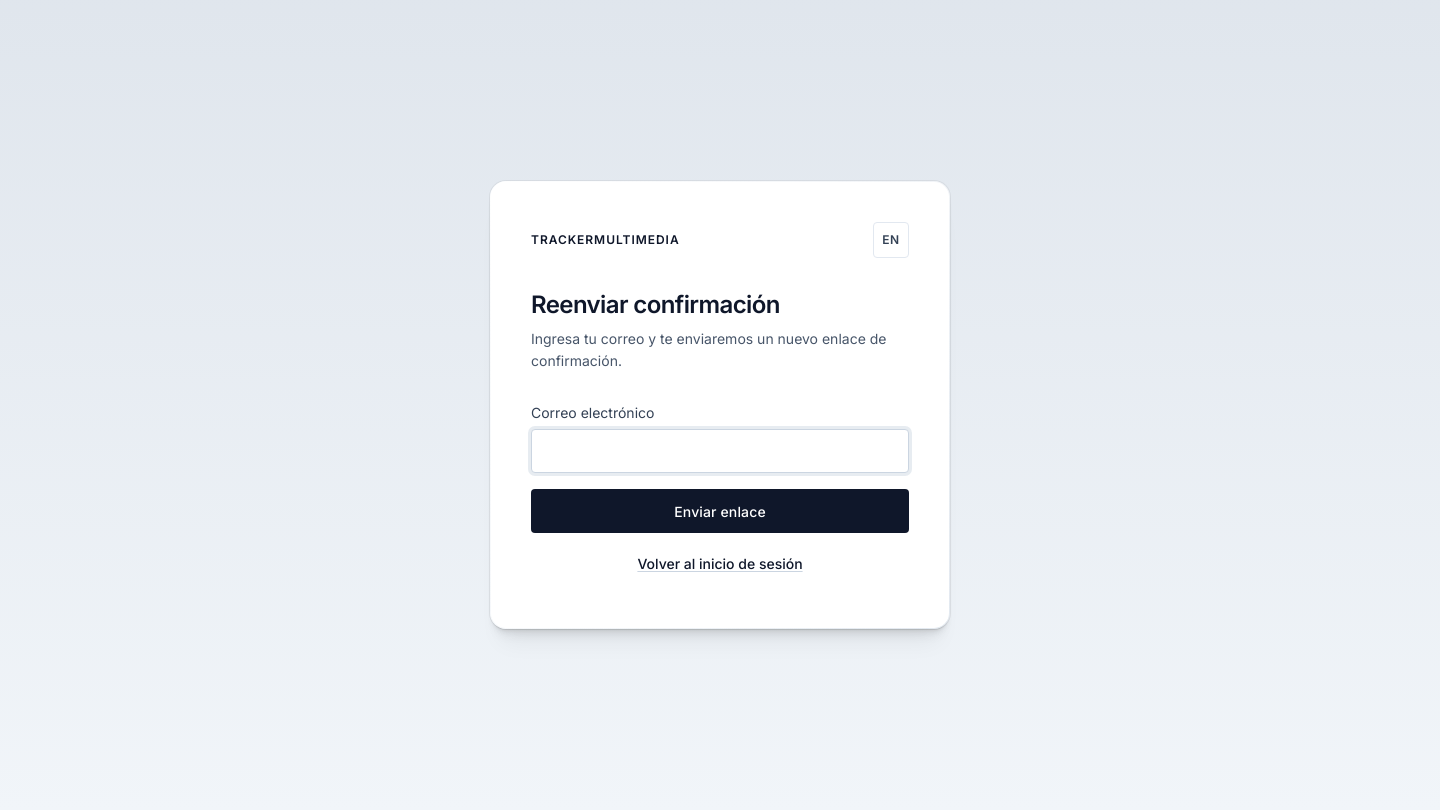
Test case: ResendConfirmationView › submits the email and shows the sent state
Step 1. Type "user@test.com" into the field labelled "Correo electrónico" → (720, 451), box top-left (531, 429), bottom-right (909, 473)
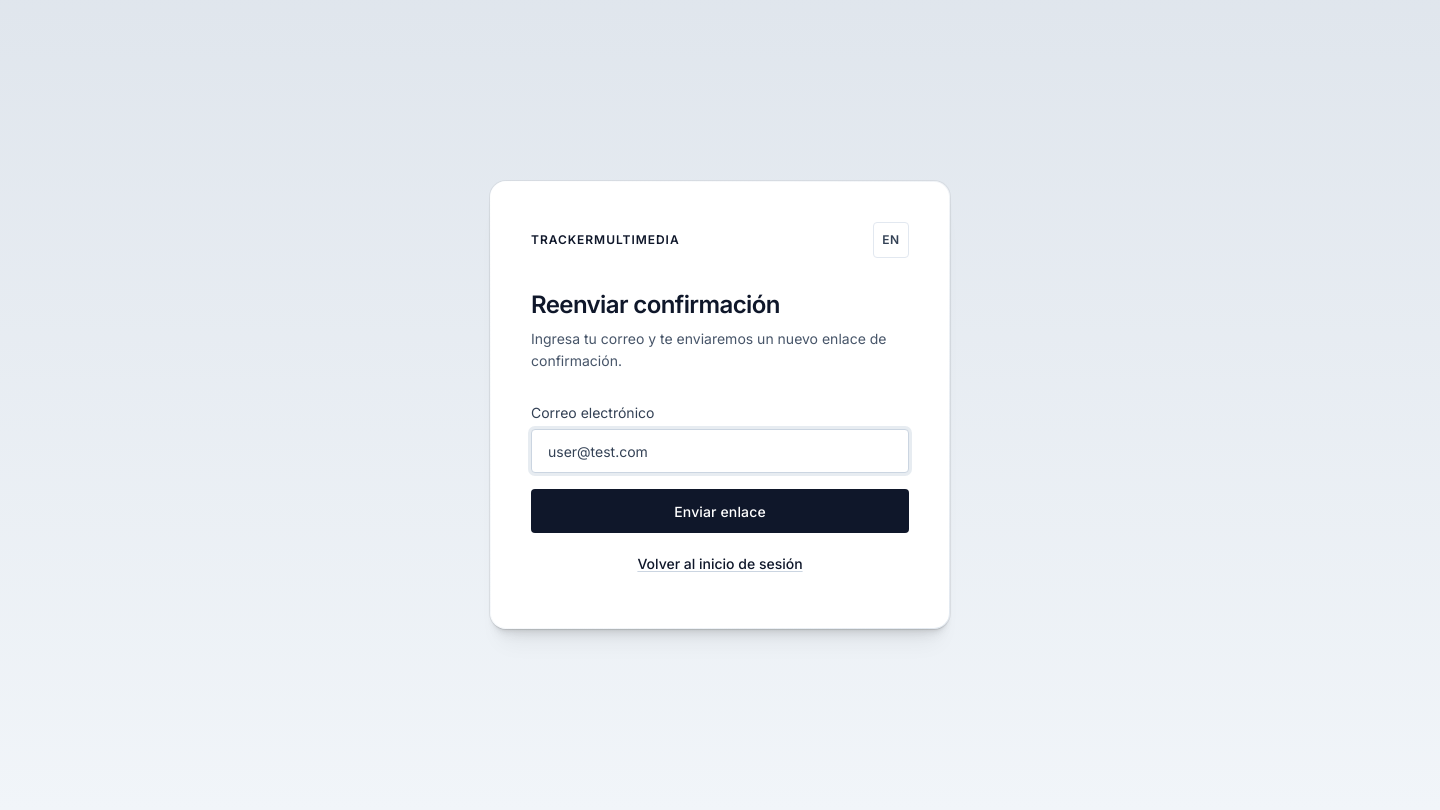
Step 2. Click the button "Enviar enlace" → (720, 511), box top-left (531, 489), bottom-right (909, 533)
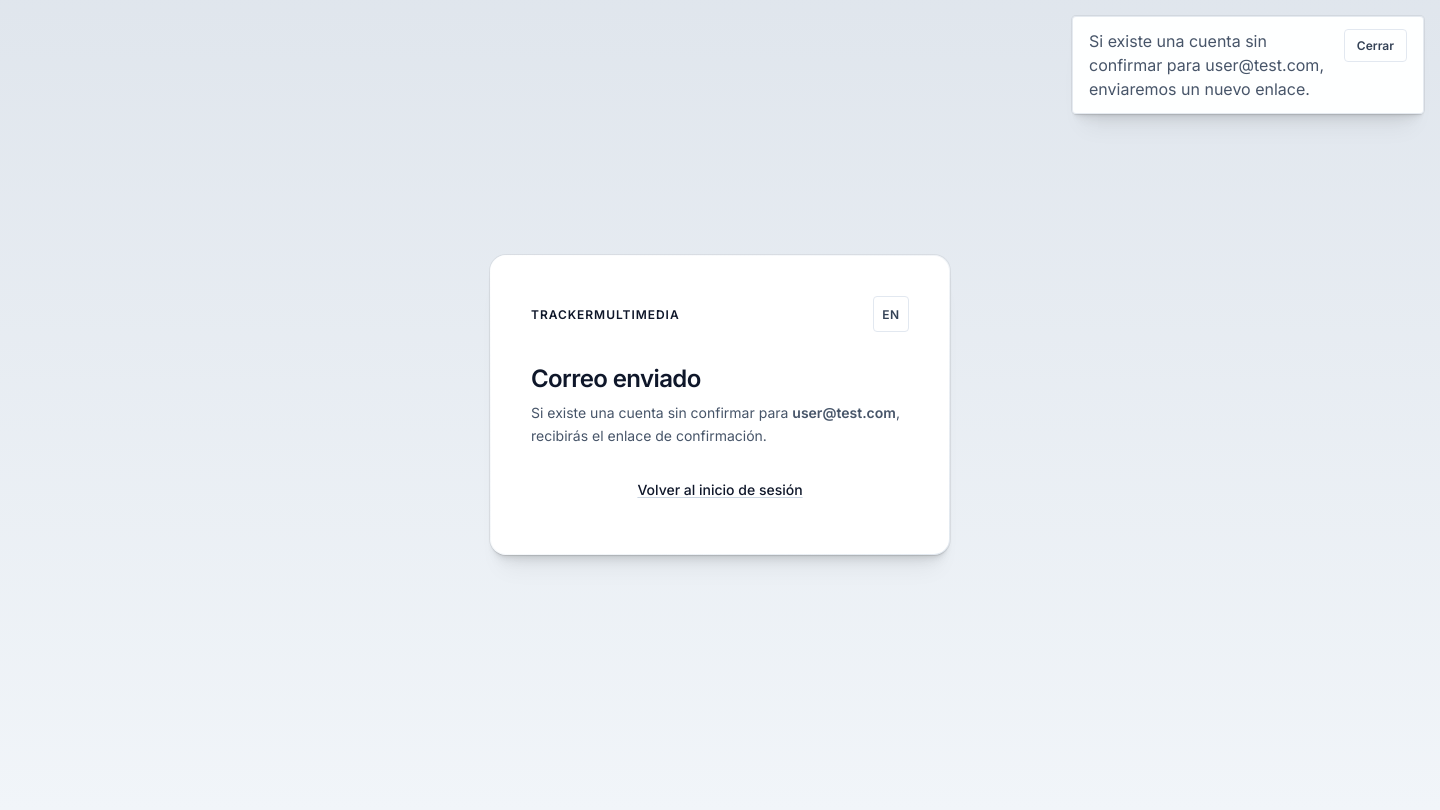
Check: the heading "Correo enviado" is shown, box top-left (531, 364), bottom-right (701, 393)
Check: the text "user@test.com" is shown, box top-left (792, 404), bottom-right (896, 421)
Check: the text "Si existe una cuenta sin confirmar para user@test.com, enviaremos un nuevo enlace." is shown, box top-left (1089, 31), bottom-right (1324, 99)
